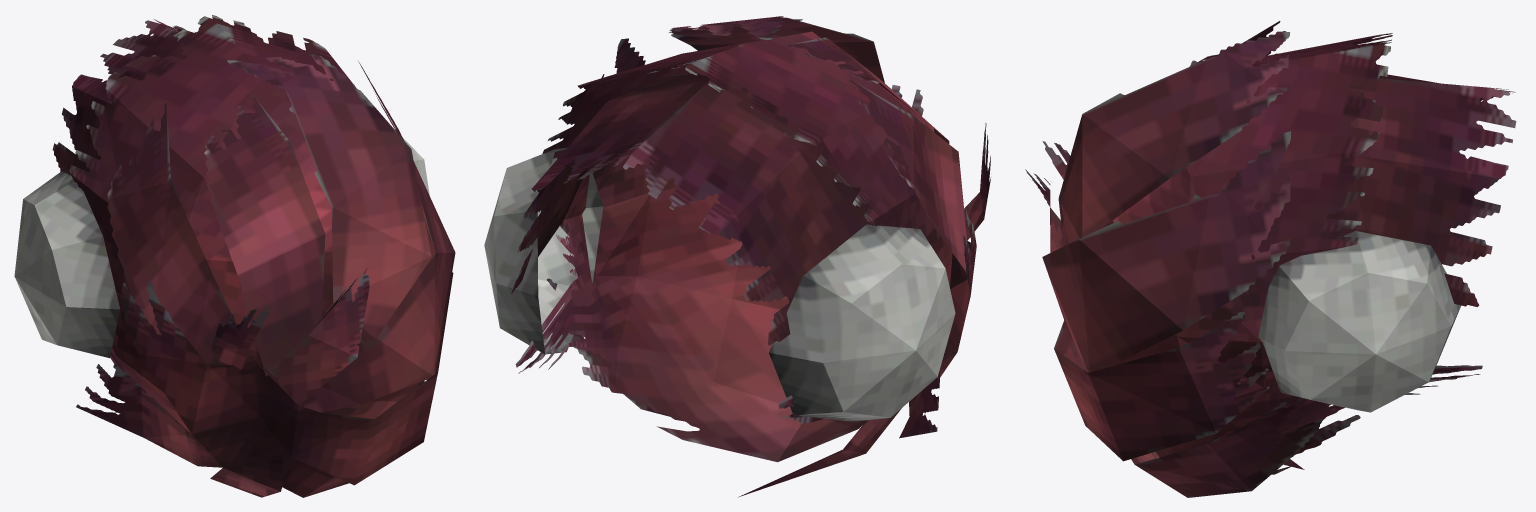
File: common_hair_male_3022.obj
The picture shows the model from 3 angles, left to right: view 1: azimuth 30°, elevation 25°; view 2: azimuth 150°, elevation 25°; view 3: azimuth 270°, elevation 25°; orthographic projection. The views are drawn at different scales.
Parts seen in each view (by area): view 1: common_hair_male_3022; view 2: common_hair_male_3022; view 3: common_hair_male_3022.
Boxes of the visible parts, x1,y1,x2,y2 form: common_hair_male_3022: (14,15,455,497); common_hair_male_3022: (484,16,990,497); common_hair_male_3022: (1025,21,1516,497).
Bounding box in the file's own units: 10.52 × 10.78 × 11.34.
1 material, 1 textured.
